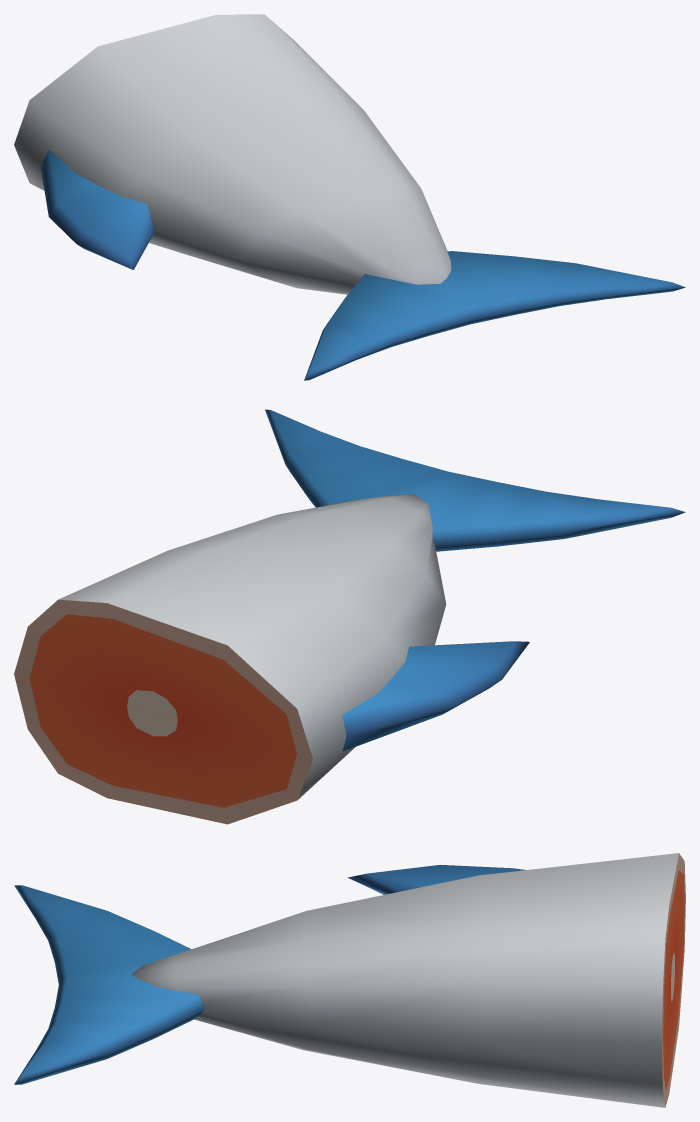
Rendered from FishHalf.fbx.
3 views of the same model, one above another, from view 1: azimuth 30°, elevation 25°; view 2: azimuth 150°, elevation 25°; view 3: azimuth 270°, elevation 25° (orthographic). The views are drawn at different scales.
Visible parts, largest first — view 1: FishHalf; view 2: FishHalf; view 3: FishHalf.
Boxes of the visible parts, <box> form: FishHalf: <box>14,14,685,380</box>; FishHalf: <box>14,409,685,824</box>; FishHalf: <box>14,853,685,1107</box>.
Bounding box in the file's own units: 18.6 × 7.62 × 24.53.
